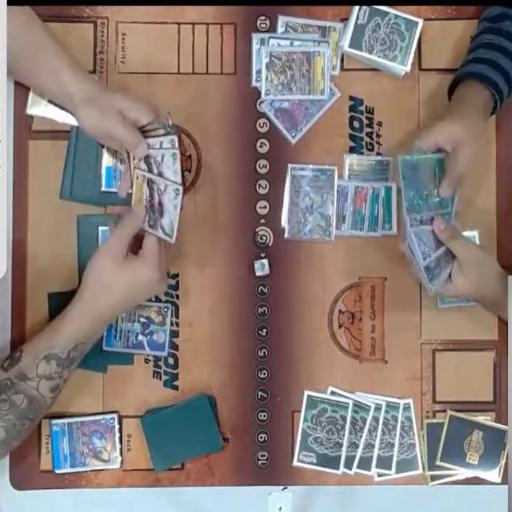card: (262, 75, 341, 146), (46, 411, 126, 475), (285, 162, 340, 242), (280, 16, 342, 80), (133, 172, 189, 240), (102, 301, 172, 353), (260, 50, 330, 99), (399, 154, 453, 214), (418, 237, 470, 294), (128, 150, 186, 188), (411, 219, 452, 266), (98, 141, 132, 196), (344, 152, 392, 188), (268, 32, 335, 56), (334, 180, 359, 240), (252, 32, 278, 88), (127, 132, 185, 155), (350, 185, 373, 238), (368, 180, 385, 240), (381, 182, 398, 238)
